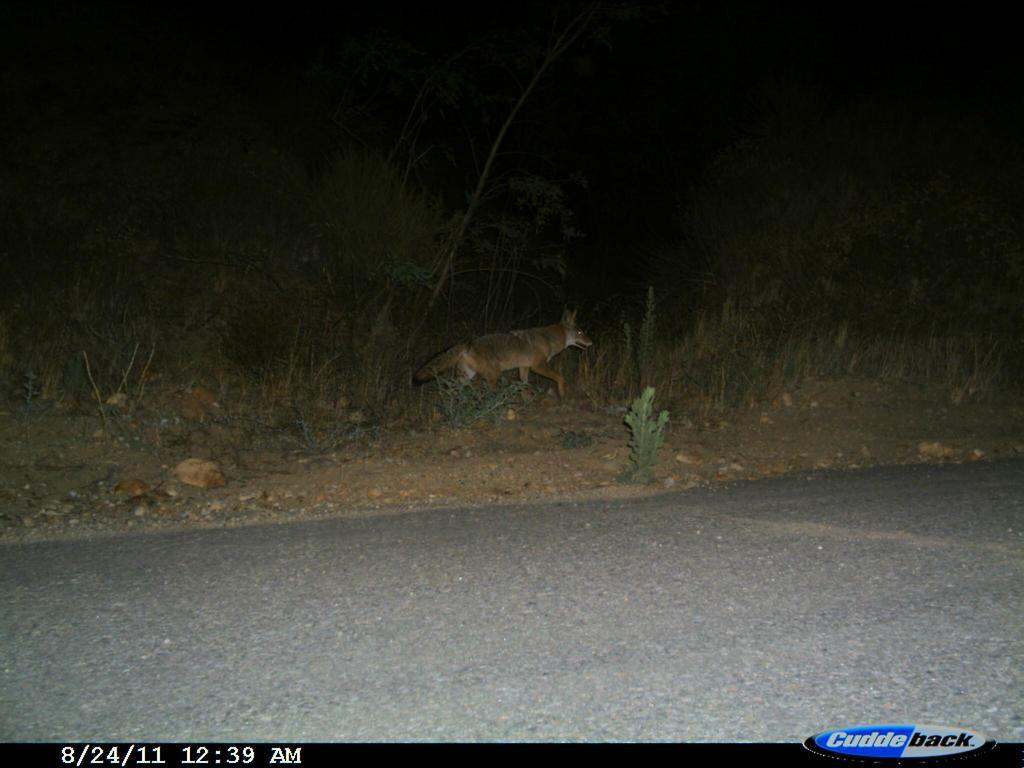coyote: (405, 301, 601, 419)
